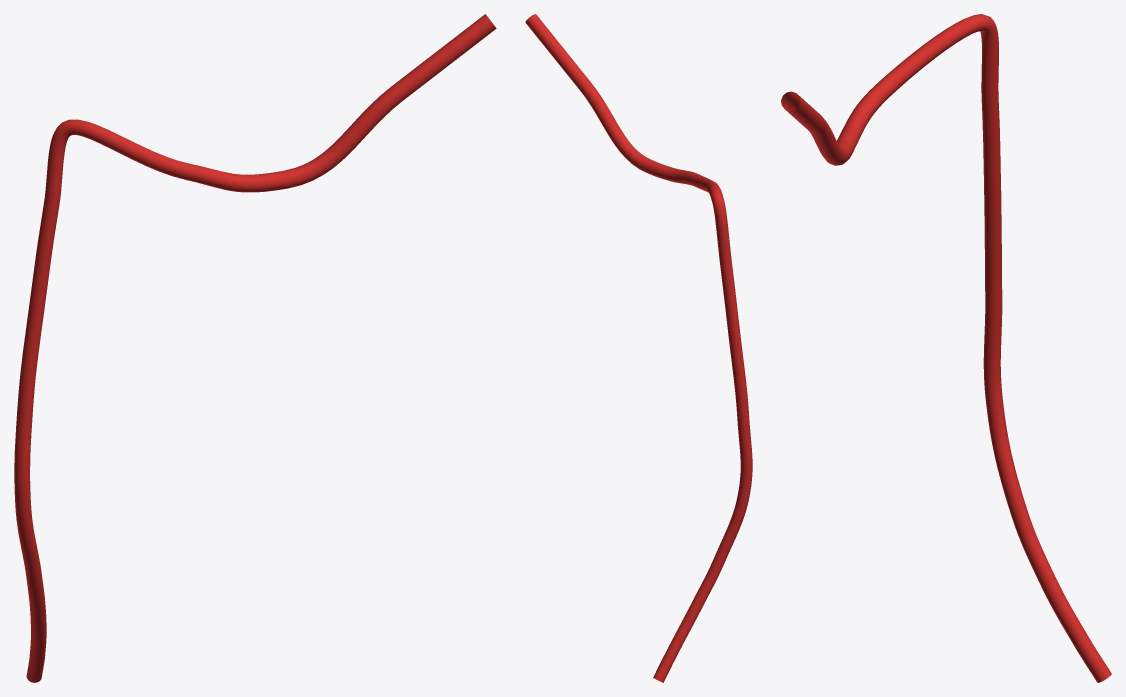
Rendered from circulatorio-posterior-ethmoidal-artery-l.glb.
3 renders of one model, left to right at view 1: azimuth 30°, elevation 25°; view 2: azimuth 150°, elevation 25°; view 3: azimuth 270°, elevation 25°, orthographic. The views are drawn at different scales.
Visible parts, largest first — view 1: Septal branches of posterior ethmoidal artery.l, Posterior ethmoidal artery.l; view 2: Septal branches of posterior ethmoidal artery.l, Posterior ethmoidal artery.l; view 3: Septal branches of posterior ethmoidal artery.l, Posterior ethmoidal artery.l.
Part boxes in pixels (x1,y1,x2,y2): Septal branches of posterior ethmoidal artery.l: (14, 119, 288, 682); Posterior ethmoidal artery.l: (284, 14, 496, 188); Septal branches of posterior ethmoidal artery.l: (645, 160, 752, 682); Posterior ethmoidal artery.l: (525, 14, 651, 172); Septal branches of posterior ethmoidal artery.l: (837, 14, 1111, 682); Posterior ethmoidal artery.l: (781, 91, 853, 165).
Size of the model in its own units: 0.017 by 0.0292 by 0.0116.
